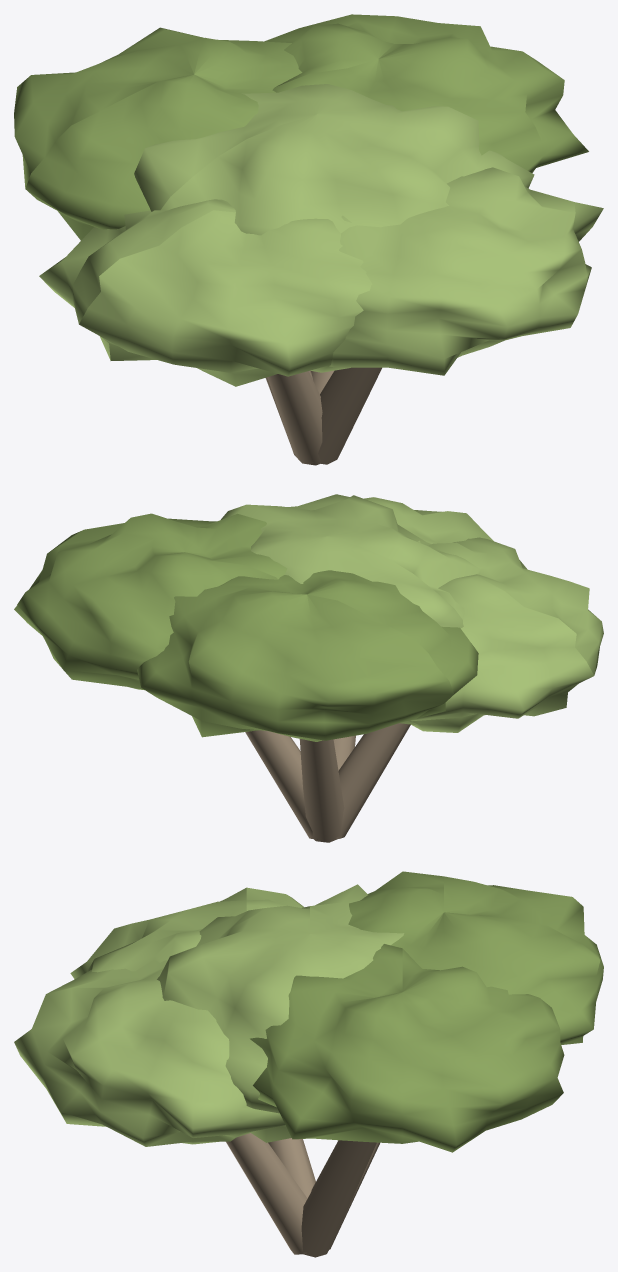
The model's file is fuge.glb.
3 views of the same model, one above another, from view 1: azimuth 30°, elevation 25°; view 2: azimuth 150°, elevation 25°; view 3: azimuth 270°, elevation 25° (orthographic). The views are drawn at different scales.
Visible parts, largest first — view 1: lomblapat-1, lomblapat-3, kozeptomeg, lomblapat-4, lomblapat-2, to-3, to-1; view 2: lomblapat-4, lomblapat-2, lomblapat-1, kozeptomeg, to-4, to-1, lomblapat-3, to-2, to-3; view 3: lomblapat-2, lomblapat-3, lomblapat-4, kozeptomeg, lomblapat-1, to-2, to-3, to-1.
Boxes of the visible parts, x1,y1,x2,y2 form: lomblapat-1: (39, 199, 372, 386); lomblapat-3: (329, 167, 603, 375); kozeptomeg: (134, 84, 534, 235); lomblapat-4: (14, 27, 302, 240); lomblapat-2: (264, 14, 588, 172); to-3: (312, 367, 381, 464); to-1: (267, 371, 322, 465); lomblapat-4: (137, 570, 478, 741); lomblapat-2: (14, 513, 287, 690); lomblapat-1: (408, 537, 603, 732); kozeptomeg: (221, 495, 480, 724); to-4: (299, 739, 344, 842); to-1: (336, 723, 410, 838); lomblapat-3: (287, 494, 493, 543); to-2: (245, 730, 317, 839); to-3: (333, 735, 355, 770); lomblapat-2: (250, 944, 564, 1152); lomblapat-3: (14, 960, 285, 1146); lomblapat-4: (348, 871, 603, 1044); kozeptomeg: (157, 884, 404, 1142); lomblapat-1: (70, 887, 303, 979); to-2: (299, 1140, 376, 1257); to-3: (226, 1133, 307, 1254); to-1: (268, 1138, 315, 1198).
Bounding box in the file's own units: 5.23 × 3.19 × 5.26.
